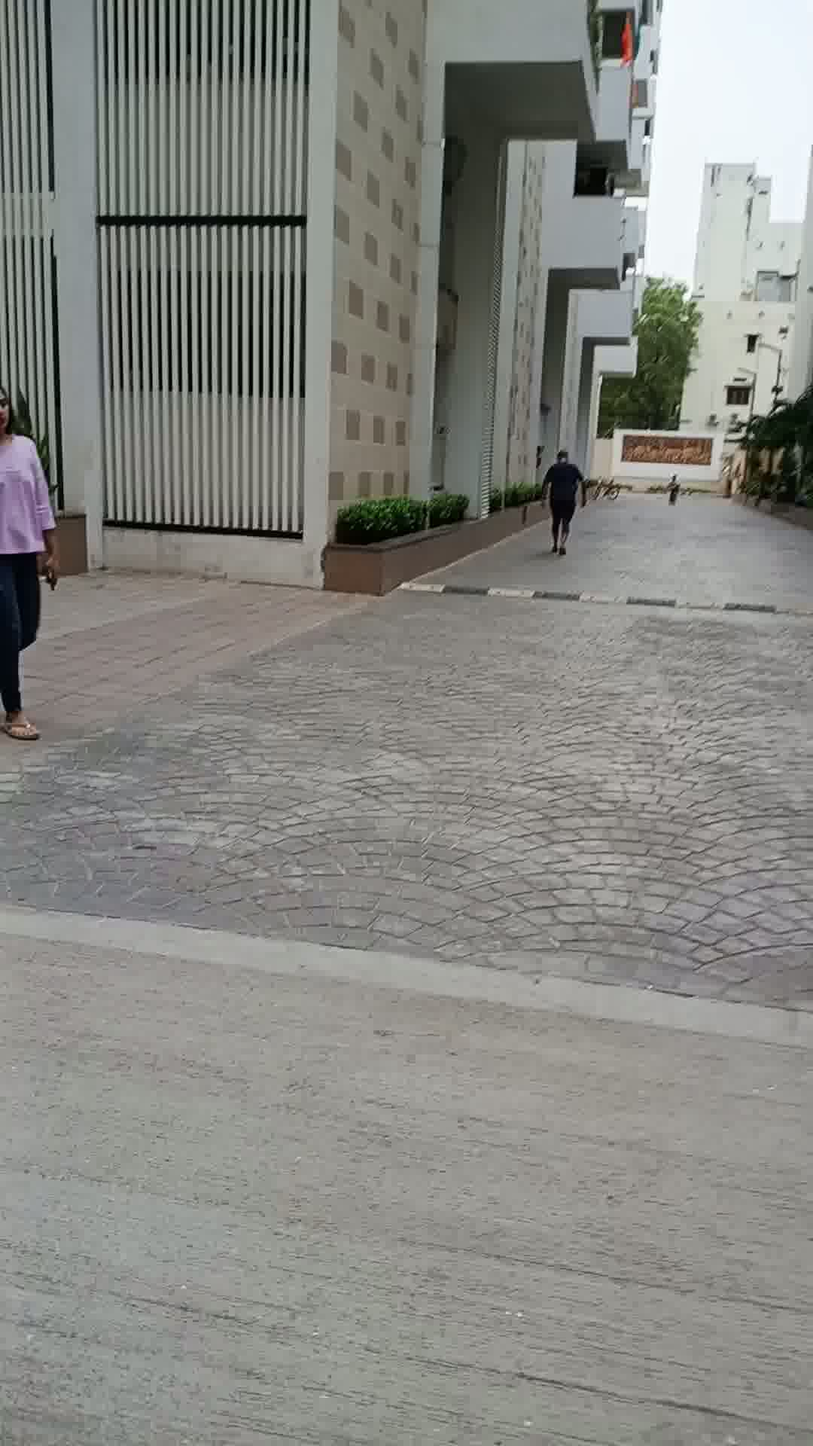person: (0, 367, 71, 751), (526, 427, 603, 572)
